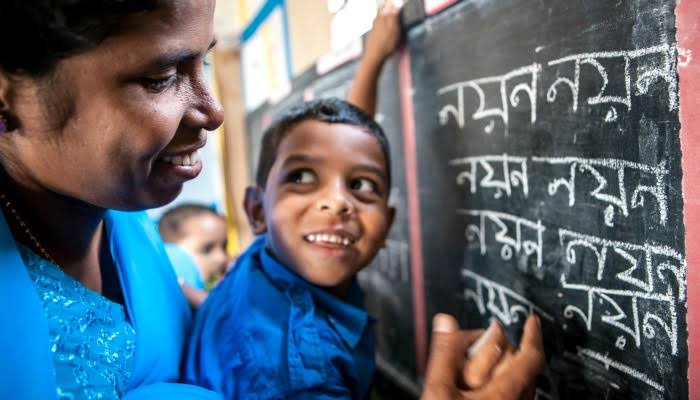student: (259, 112, 394, 283), (157, 209, 231, 291)
